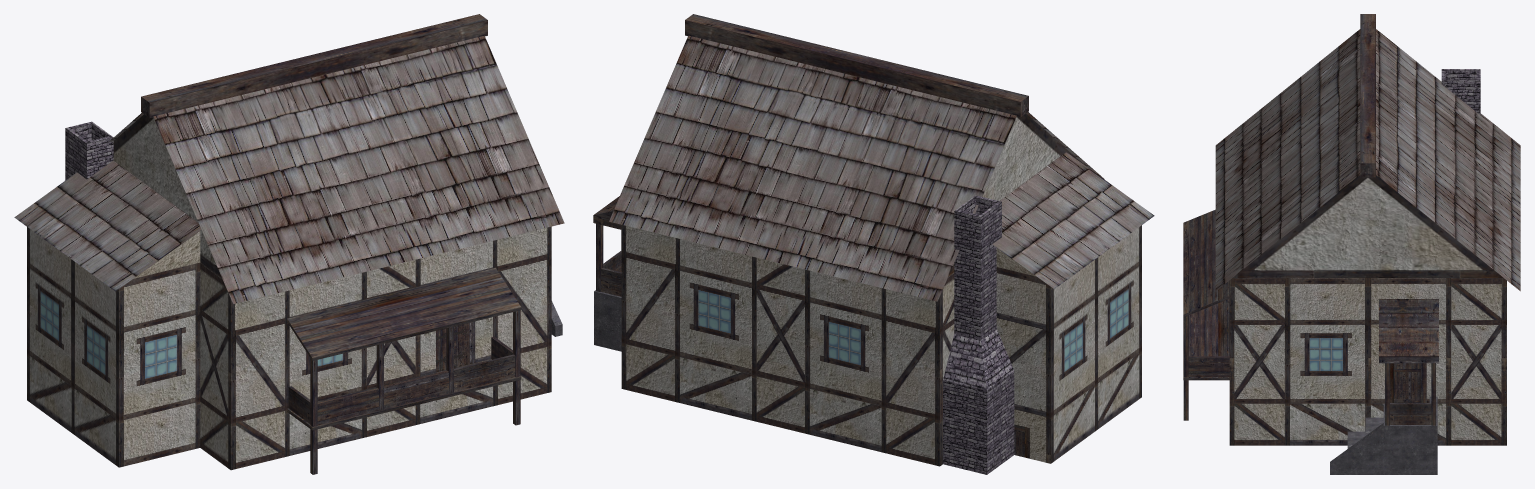
The model's file is MedievalHouse_004.dae.
3 renders of one model, left to right at view 1: azimuth 30°, elevation 25°; view 2: azimuth 150°, elevation 25°; view 3: azimuth 270°, elevation 25°, orthographic. The views are drawn at different scales.
Visible parts, largest first — view 1: MedievalHouse_004; view 2: MedievalHouse_004; view 3: MedievalHouse_004.
Boxes of the visible parts, left/top/right/bottom form: MedievalHouse_004: left=14, top=14, right=564, bottom=474; MedievalHouse_004: left=593, top=14, right=1154, bottom=474; MedievalHouse_004: left=1183, top=14, right=1520, bottom=474.
Size of the model in its own units: 64.58 by 43.8 by 41.
